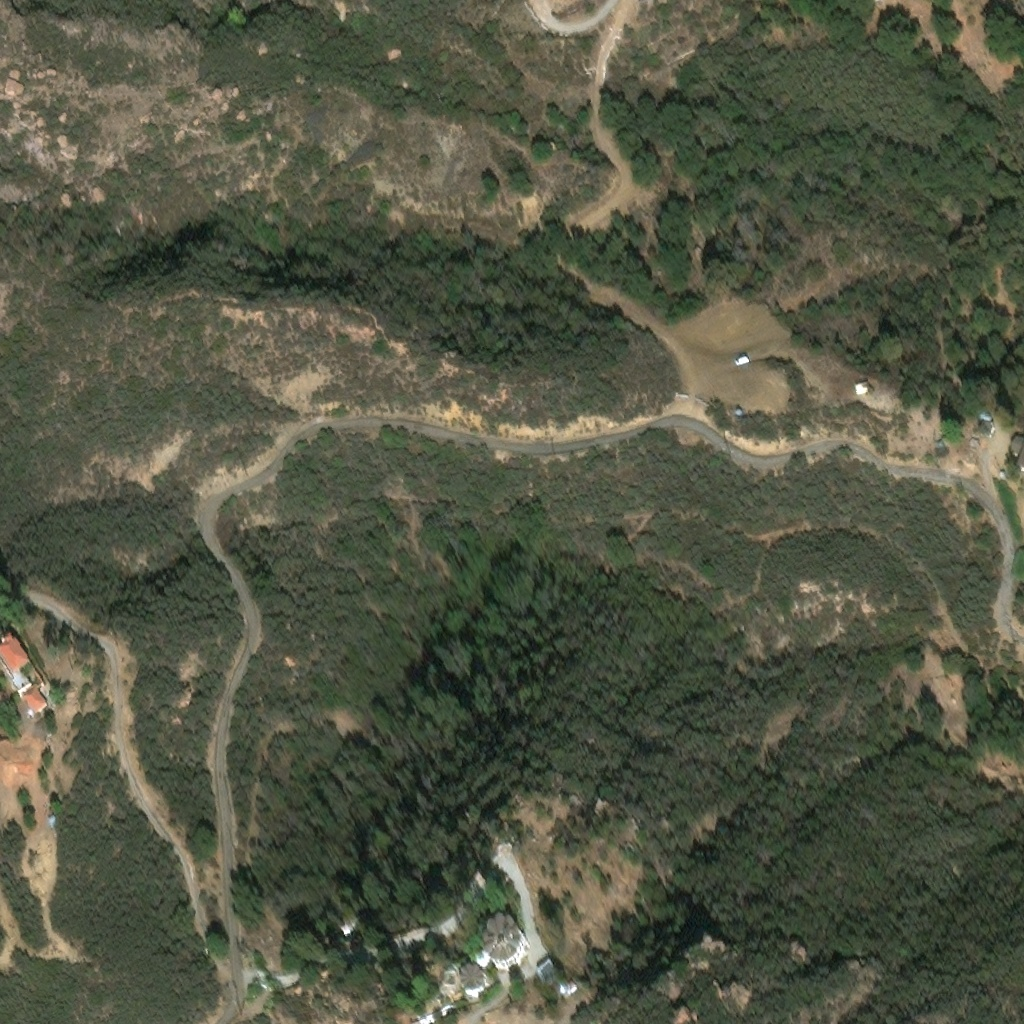0 no-damage: (0, 641, 33, 699), (484, 920, 524, 965), (24, 691, 49, 719), (456, 960, 482, 985), (537, 960, 558, 982), (1011, 438, 1023, 475), (855, 385, 871, 395), (979, 423, 991, 436), (565, 977, 575, 988), (979, 415, 991, 422), (1006, 436, 1013, 443)
4 un-classified: (409, 1014, 427, 1023), (49, 821, 59, 832), (968, 439, 978, 447), (737, 415, 745, 422), (1000, 474, 1007, 482), (938, 445, 944, 450), (50, 814, 54, 820)
